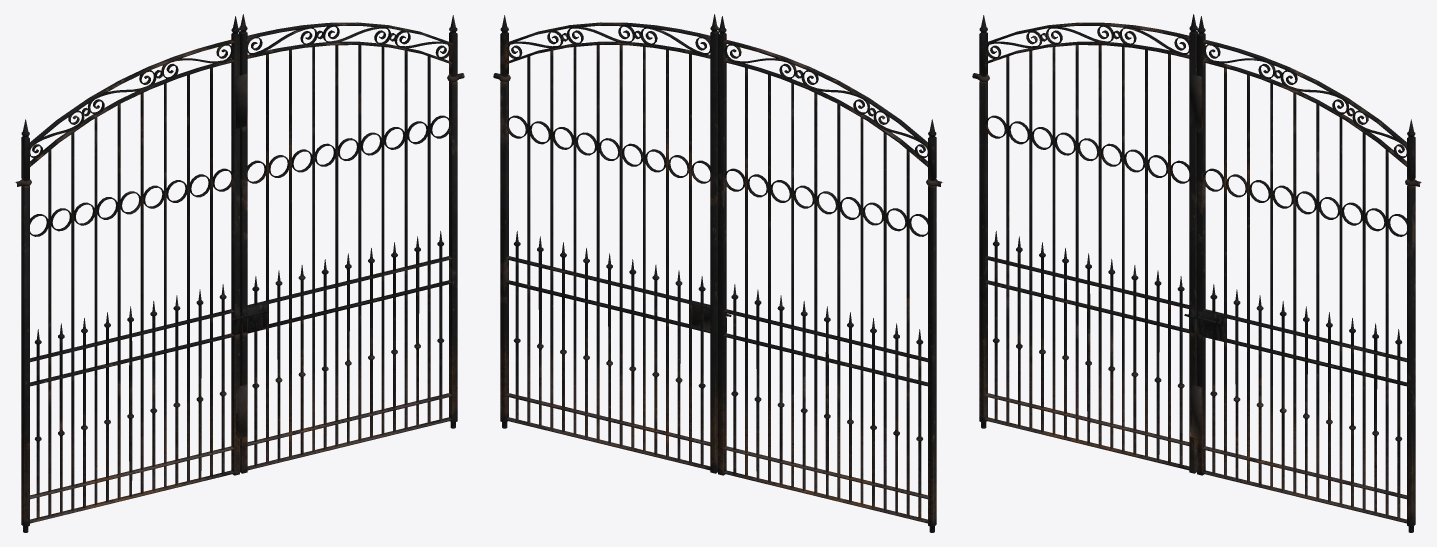
Rendered from large_iron_gate.glb.
The picture shows the model from 3 angles, left to right: view 1: azimuth 30°, elevation 25°; view 2: azimuth 150°, elevation 25°; view 3: azimuth 330°, elevation 25°; orthographic projection.
Parts seen in each view (by area): view 1: large_iron_gate_right_door, large_iron_gate_left_door; view 2: large_iron_gate_left_door, large_iron_gate_right_door; view 3: large_iron_gate_right_door, large_iron_gate_left_door.
Part boxes in pixels (x1,y1,x2,y2): large_iron_gate_right_door: (235, 14, 457, 473); large_iron_gate_left_door: (21, 16, 241, 532); large_iron_gate_left_door: (718, 16, 936, 532); large_iron_gate_right_door: (500, 14, 718, 473); large_iron_gate_right_door: (1190, 16, 1415, 532); large_iron_gate_left_door: (979, 14, 1197, 473).
Bounding box in the file's own units: 2.95 × 2.93 × 0.0973.
1 material, 1 textured.
